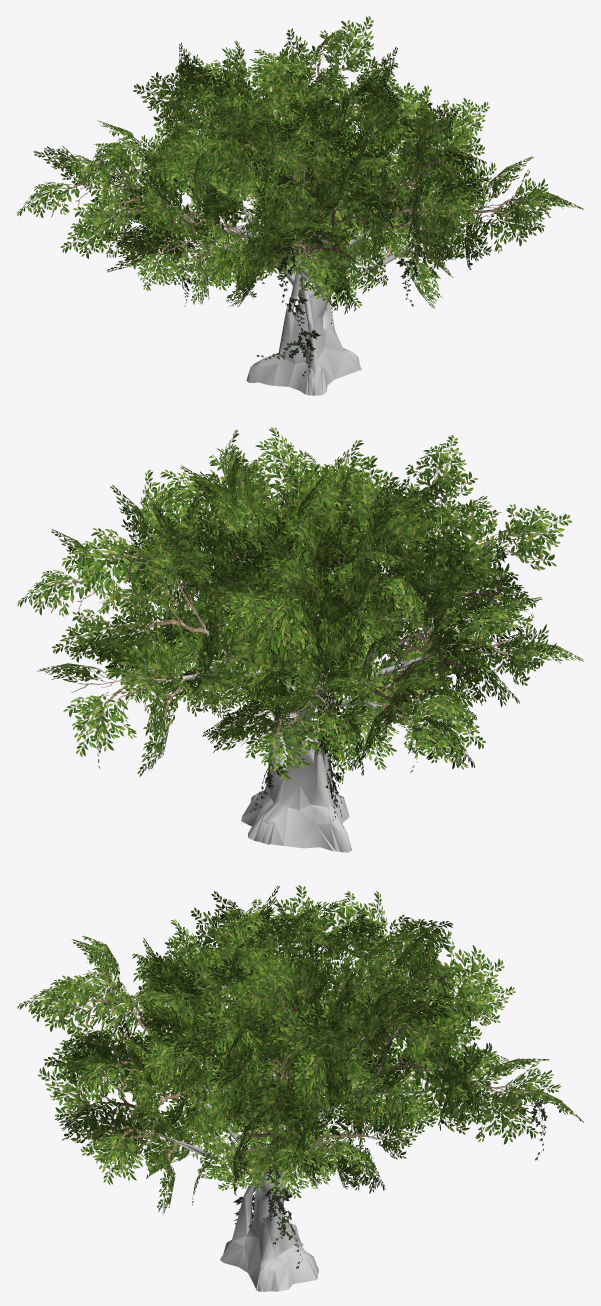
The model's file is banyan.fbx.
The picture shows the model from 3 angles, top to bottom: view 1: azimuth 30°, elevation 25°; view 2: azimuth 150°, elevation 25°; view 3: azimuth 270°, elevation 25°; orthographic projection. The views are drawn at different scales.
Parts seen in each view (by area): view 1: Banyan_tree_3d_model; view 2: Banyan_tree_3d_model; view 3: Banyan_tree_3d_model.
Part boxes in pixels (left/top/right/bottom): Banyan_tree_3d_model: left=17, top=16, right=583, bottom=395; Banyan_tree_3d_model: left=17, top=427, right=583, bottom=852; Banyan_tree_3d_model: left=17, top=885, right=583, bottom=1291.
Bounding box in the file's own units: 1340 × 936 × 1419.
